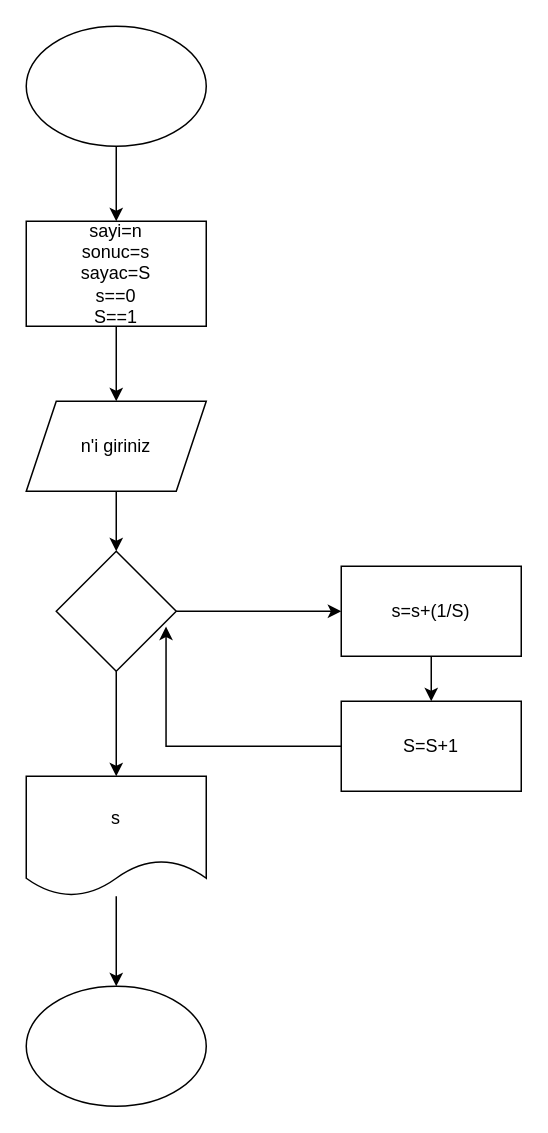
This 548x1133 diagram has some shape labels left out. The box of each missing label's shape, as (x1, y1, x2, y2) in pixels:
S<n: (55, 550, 176, 671)
start: (25, 25, 206, 146)
